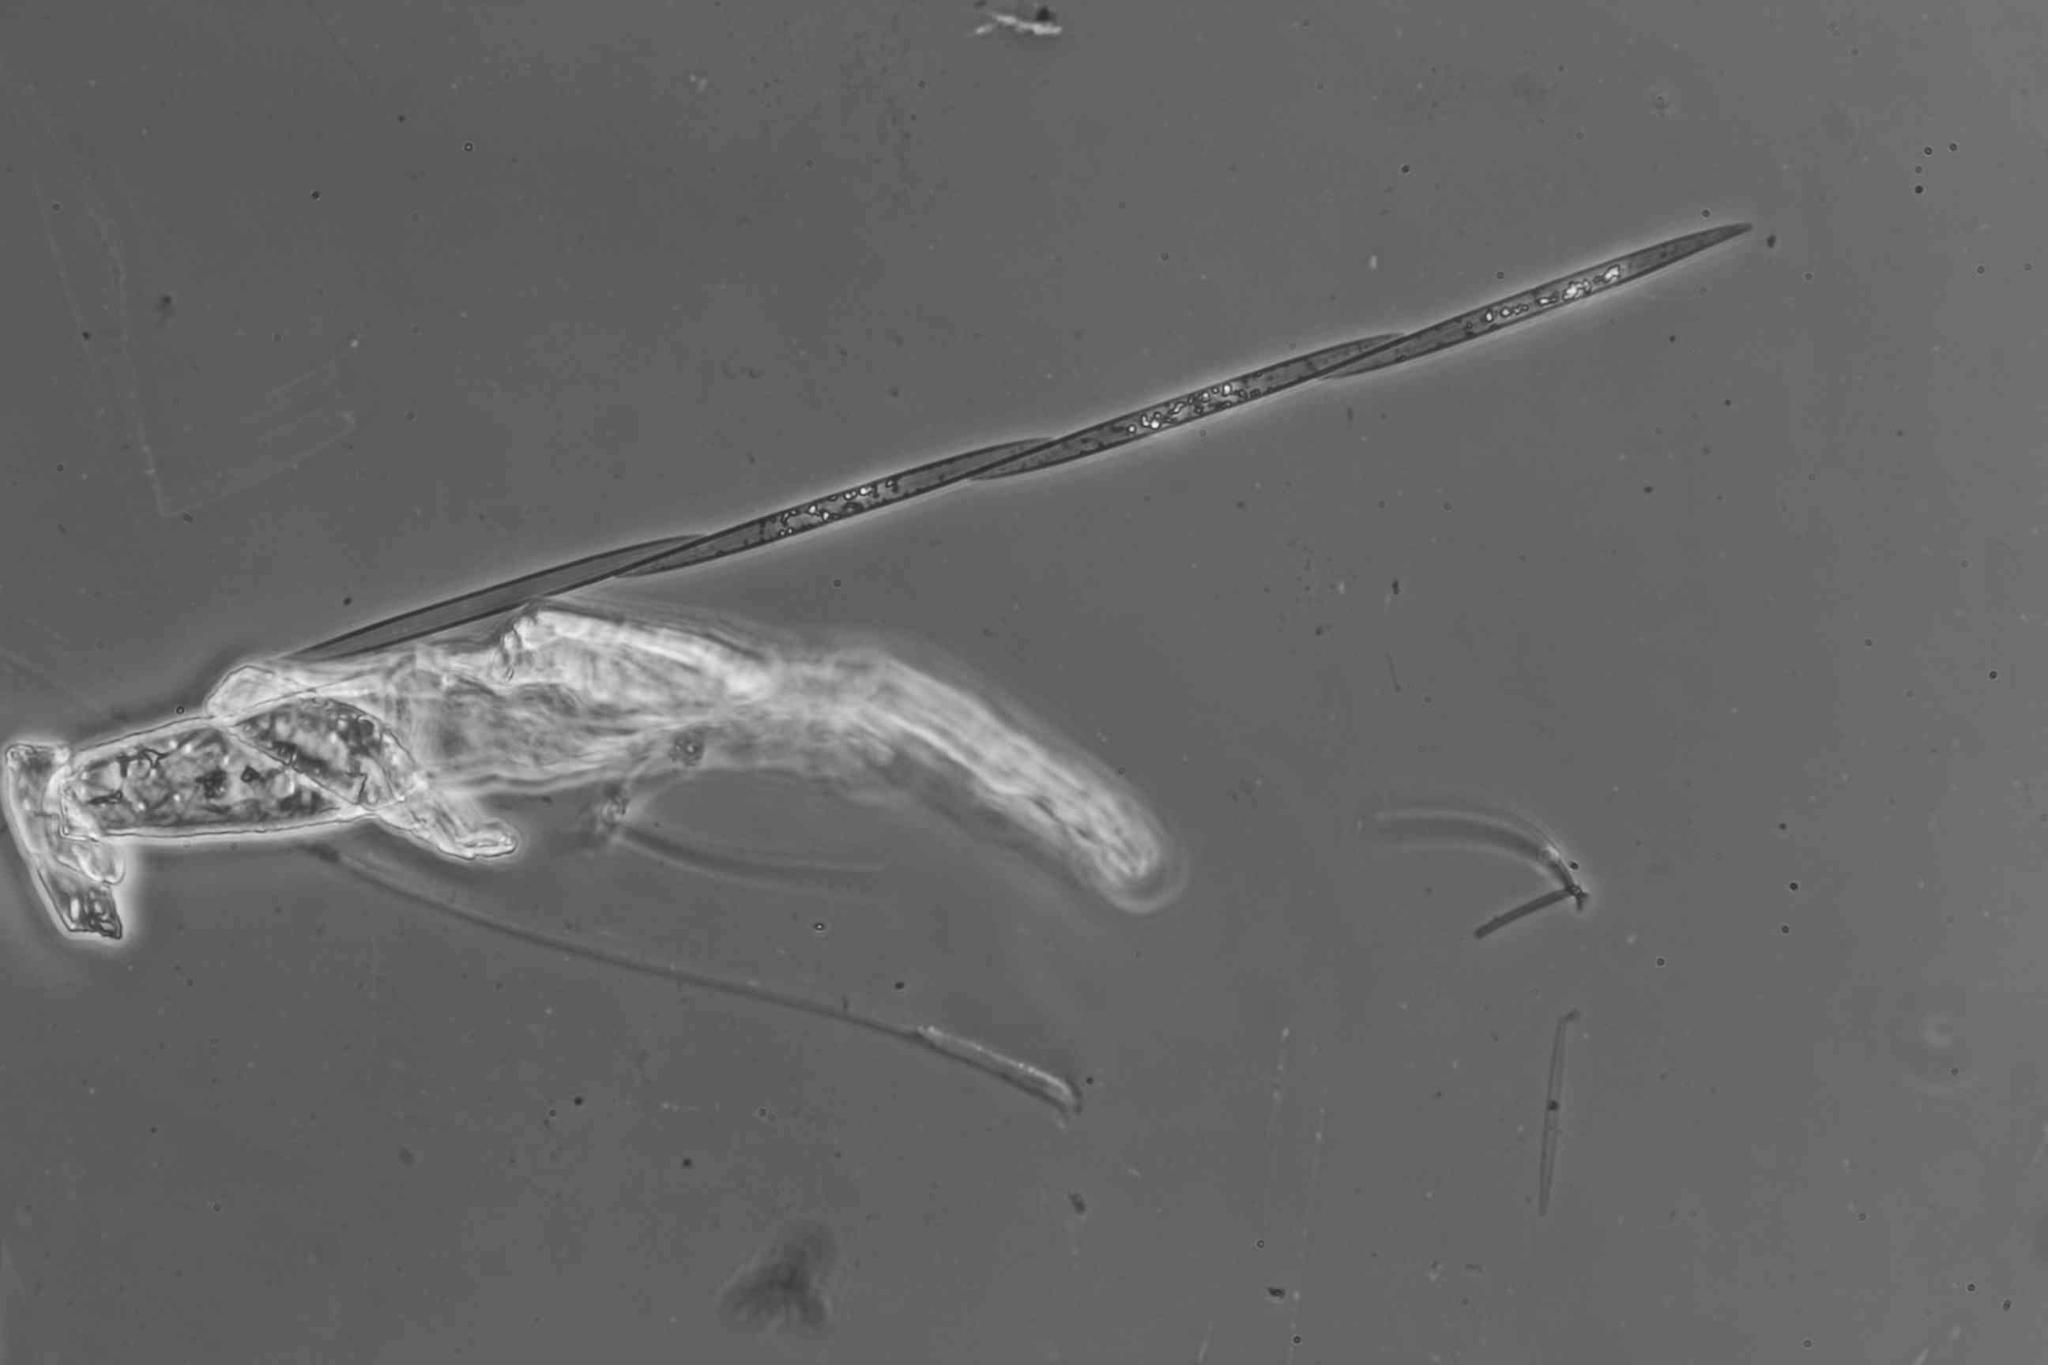pseudo_nitzschia: (288, 224, 1757, 667)
